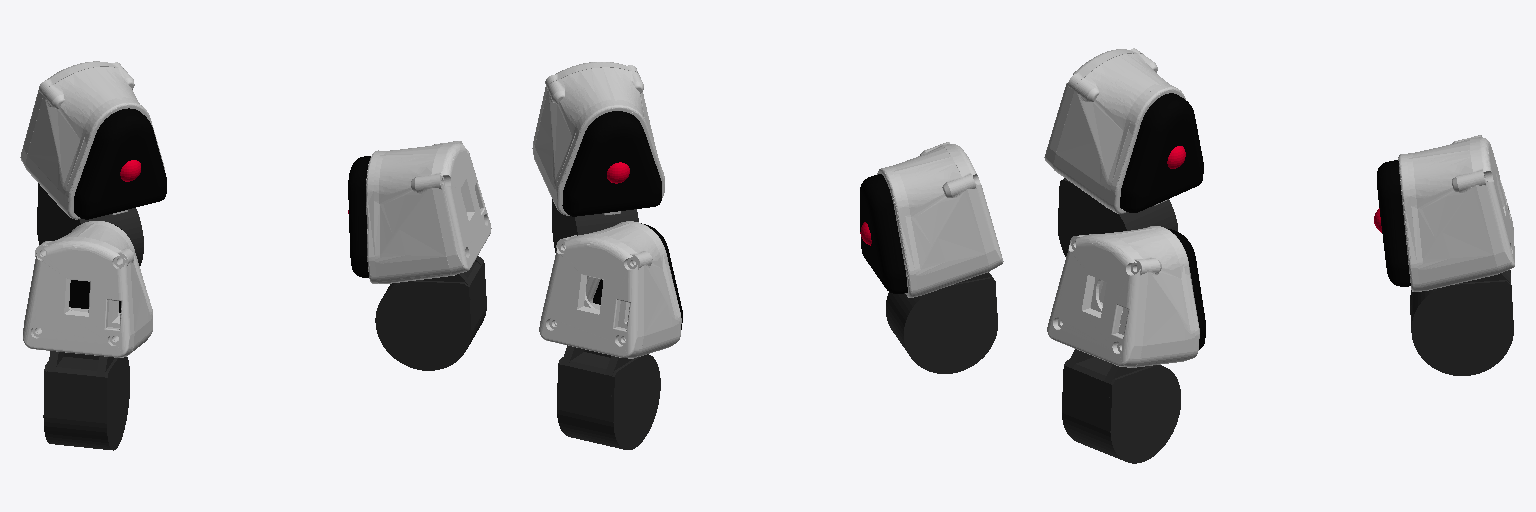
The robot description file, URDF, robot "smart_grasping_sandbox":
<?xml version="1.0" ?>
<!-- =================================================================================== -->
<!-- |    This document was autogenerated by xacro from /smart_grasping_sandbox/src/smart_grasping_sandbox/fh_desc/robots/right_H1_ur5.urdf | -->
<!-- |    EDITING THIS FILE BY HAND IS NOT RECOMMENDED                                 | -->
<!-- =================================================================================== -->
<robot name="smart_grasping_sandbox" xmlns:xacro="http://ros.org/wiki/xacro">

  <!-- Colors -->
  <material name="DarkGrey">
    <color rgba="0.2 0.2 0.2 1.0"/>
  </material>
  <material name="Grey">
    <color rgba="0.4 0.4 0.4 1.0"/>
  </material>
  <material name="Orange">
    <color rgba="1.0 0.423529411765 0.0392156862745 1.0"/>
  </material>
  <material name="Blue">
    <color rgba="0 0.1 1.0 1.0"/>
  </material>
  <material name="LightGrey">
    <color rgba="0.7 0.7 0.7 1.0"/>
  </material>
  <material name="Red">
    <color rgba="0.9 0 0.2 1.0"/>
  </material>
  <material name="Green">
    <color rgba="0 0.9 0.5 1.0"/>
  </material>
  <material name="Yellow">
    <color rgba="0.7 0.7 0 1.0"/>
  </material>
  <material name="LightBlue">
    <color rgba="0. 0.3 1.0 1.0"/>
  </material>
  <material name="Black">
    <color rgba="0.05 0.05 0.05 1.0"/>
  </material>
  <material name="White">
    <color rgba="1.0 1.0 1.0 1.0" />
  </material>
  <material name="TacTipWhite">
   <color rgba="0.8 0.8 0.8 1.0"/>
 </material>
 <material name="TransparentRed">
   <color rgba="0.9 0 0.2 0.5"/>
 </material>

<!-- ====================== Shadow Modular Grasper ====================== -->

<!-- connect hand to world -->
<link name="world"/>

<link name="SMG_base_link">
  <inertial>
    <origin rpy="0 0 0" xyz="-8.6116E-06 -0.0058125 0.028294"/>
    <mass value="0.07527"/>
    <inertia ixx="0.00014442" ixy="1.2033E-08" ixz="-5.9646E-10" iyy="0.00014979" iyz="-1.0288E-05" izz="5.2943E-05"/>
  </inertial>

  <visual>
    <origin rpy="0 0 0" xyz="0 0 0"/>
    <geometry>
      <mesh filename="hand/palm_link_simple.dae"/>
    </geometry>
    <material name="DarkGrey"/>
  </visual>

  <collision>
    <origin rpy="0 0 0" xyz="0 0 0"/>
    <geometry>
      <mesh filename="hand/palm_link_simple.dae"/>
    </geometry>
  </collision>
</link>

<joint name="SMG_base_joint" type="fixed">
  <origin rpy="0 0 0" xyz="0 0 0"/>
  <parent link="world"/>
  <child link="SMG_wrist_attach"/>
</joint>

<link name="SMG_wrist_attach">
  <inertial>
    <mass value="0.1879"/>
    <origin rpy="0 0 0" xyz="0.0 0.0 0.0"/>
    <inertia ixx="1.0" ixy="0.0" ixz="0.0" iyy="1.0" iyz="0.0" izz="1.0"/>
  </inertial>
</link>

<joint name="SMG_base_link_wrist_attach" type="fixed">
  <origin rpy="0 0 0" xyz="0 0 -0.0005"/>
  <child link="SMG_base_link"/>
  <parent link="SMG_wrist_attach"/>
</joint>


  <!-- ============= SMG Body =============== -->
  <link name="SMG_insert_F1">
    <inertial>
      <mass value="0.1879"/>
      <origin rpy="0 0 0" xyz="0.0 0.0 0.0"/>
      <inertia ixx="1.0" ixy="0.0" ixz="0.0" iyy="1.0" iyz="0.0" izz="1.0"/>
    </inertial>
  </link>

  <joint name="SMG_dummy_joint_1" type="fixed">
    <origin rpy="0 0 2.3562" xyz="-0.045 -0.025981 0"/>
    <axis xyz="0 -1 0"/>
    <parent link="SMG_base_link"/>
    <child link="SMG_insert_F1"/>
  </joint>

  <link name="SMG_insert_F2">
    <inertial>
      <mass value="0.1879"/>
      <origin rpy="0 0 0" xyz="0.0 0.0 0.0"/>
      <inertia ixx="1.0" ixy="0.0" ixz="0.0" iyy="1.0" iyz="0.0" izz="1.0"/>
    </inertial>
  </link>

  <joint name="SMG_dummy_joint_2" type="fixed">
    <origin rpy="0 0 0" xyz="0 0.029019 0"/>
    <axis xyz="0 -1 0"/>
    <parent link="SMG_base_link"/>
    <child link="SMG_insert_F2"/>
  </joint>

  <link name="SMG_insert_F3">
    <inertial>
      <mass value="0.1879"/>
      <origin rpy="0 0 0" xyz="0.0 0.0 0.0"/>
      <inertia ixx="1.0" ixy="0.0" ixz="0.0" iyy="1.0" iyz="0.0" izz="1.0"/>
    </inertial>
  </link>

  <joint name="SMG_dummy_joint_3" type="fixed">
    <origin rpy="0 0 -2.3562" xyz="0.045 -0.025981 0"/>
    <axis xyz="0 -1 0"/>
    <parent link="SMG_base_link"/>
    <child link="SMG_insert_F3"/>
  </joint>


  <!-- ============= Finger 1 =============== -->
  <link name="SMG_F1_palm_link">
    <inertial>
      <origin rpy="0 0 0" xyz="-0.00681802120880393 -0.00947020456878004 0.067587996682422"/>
      <mass value="0.0341482312344481"/>
      <inertia ixx="2.79747833772125E-05" ixy="-5.50900644725373E-08" ixz="-2.82072424927723E-07" iyy="2.67800858812928E-05" iyz="3.1953125069394E-06" izz="9.86122271726361E-06"/>
    </inertial>

    <visual>
      <origin rpy="0 0 0" xyz="0 0 0"/>
      <geometry>
        <mesh filename="hand/finger_palm_link.dae"/>
      </geometry>
      <material name="DarkGrey"/>
    </visual>

    <collision>
      <origin rpy="0 0 0" xyz="0 0 0"/>
      <geometry>
        <mesh filename="hand/finger_palm_link.dae"/>
      </geometry>
    </collision>
  </link>

  <link name="SMG_F1_base_link">
    <inertial>
      <origin rpy="0 0 0" xyz="-0.000142856770000038 0.0265691681336443 0.0538751581621436"/>
      <mass value="0.174652229503358"/>
      <inertia ixx="0.000298372741514267" ixy="-5.05751882577435E-07" ixz="1.94982779411417E-07" iyy="0.000299629589232877" iyz="2.79565205733806E-05" izz="0.000134889645145365"/>
    </inertial>

    <visual>
      <origin rpy="0 0 0" xyz="0 0 0"/>
      <geometry>
        <mesh filename="hand/finger_base_link_simple.dae"/>
      </geometry>
      <material name="DarkGrey"/>
    </visual>

    <collision>
      <origin rpy="0 0 0" xyz="0 0 0"/>
      <geometry>
        <mesh filename="hand/finger_base_link_simple.dae"/>
      </geometry>
    </collision>
  </link>

  <link name="SMG_F1_link_1">
    <inertial>
      <origin rpy="0 0 0" xyz="-0.000141876508729455 -0.00135409566494088 0.0277606215980989"/>
      <mass value="0.0827759744227546"/>
      <inertia ixx="4.61070151157777E-05" ixy="7.47741111557837E-08" ixz="-2.25165057702697E-07" iyy="5.27678327317508E-05" iyz="-3.64603343546298E-07" izz="2.89599551320955E-05"/>
    </inertial>

    <visual>
      <origin rpy="0 0 0" xyz="0 0 0"/>
      <geometry>
        <mesh filename="hand/finger_prox_link_simple.dae"/>
      </geometry>
      <material name="LightGrey"/>
    </visual>

    <collision>
      <origin rpy="0 0 0" xyz="0 0 0"/>
      <geometry>
        <mesh filename="hand/finger_prox_link_simple.dae"/>
      </geometry>
    </collision>
  </link>

  <link name="SMG_F1_link_2">
    <inertial>
      <origin rpy="0 0 0" xyz="0.000506812071918918 -0.00091292934992606 0.0156620851768385"/>
      <mass value="0.0270049614151599"/>
      <inertia ixx="1.06942730265546E-05" ixy="-7.1810089794211E-09" ixz="-3.49957211410822E-07" iyy="1.05772889540593E-05" iyz="-8.38595987731518E-07" izz="3.27173446995846E-06"/>
    </inertial>

    <visual>
      <origin rpy="0 0 0" xyz="0 0 0"/>
      <geometry>
        <mesh filename="tip/dist_hand_mount.obj"/>
      </geometry>
      <material name="DarkGrey"/>
    </visual>

    <collision>
      <origin rpy="0 0 0" xyz="0 0 0"/>
      <geometry>
        <mesh filename="tip/dist_hand_mount.obj"/>
      </geometry>
    </collision>
  </link>

  <joint name="SMG_F1_palm" type="fixed">
    <origin rpy="0 0 0" xyz="0 0 0"/>
    <parent link="SMG_insert_F1"/>
    <child link="SMG_F1_palm_link"/>
  </joint>

  <joint name="SMG_F1J1" type="revolute">
    <origin rpy="-8.8818E-16 -1.0061E-16 0.022402" xyz="0 0 0.00016528"/>
    <axis xyz="0 0 1"/>
    <parent link="SMG_F1_palm_link"/>
    <child link="SMG_F1_base_link"/>
    <limit effort="50" lower="-0.785398163397" upper="0.785398163397" velocity="1.0"/>
    <!-- <dynamics damping="0.5" friction="0.0"/> -->
  </joint>

  <joint name="SMG_F1J2" type="revolute">
    <origin rpy="0.070695 6.9389E-16 2.0947E-16" xyz="0 0.035 0.11683"/>
    <axis xyz="1 0 0"/>
    <parent link="SMG_F1_base_link"/>
    <child link="SMG_F1_link_1"/>
    <limit effort="50" lower="-1.3962634016" upper="1.0471975512" velocity="1.0"/>
    <!-- <dynamics damping="0.5" friction="0.0"/> -->
  </joint>

  <joint name="SMG_F1J3" type="revolute">
    <origin rpy="-0.0068649 1.7347E-18 1.6176E-16" xyz="0 0 0.06"/>
    <axis xyz="1 0 0"/>
    <parent link="SMG_F1_link_1"/>
    <child link="SMG_F1_link_2"/>
    <limit effort="50" lower="-1.0471975512" upper="1.57079632679" velocity="1.0"/>
    <!-- <dynamics damping="0.5" friction="0.0"/> -->
  </joint>

  <link name="SMG_F1_tactip_body">
    <inertial>
      <origin rpy="0 0 0" xyz="-0.000925580990320645 -0.00495543398528436 0.0355865585792753"/>
      <mass value="0.01"/>
      <inertia ixx="1E-06" ixy="0" ixz="0" iyy="1E-06" iyz="0" izz="1E-06"/>
    </inertial>

    <visual>
      <origin rpy="0 0 0" xyz="0 0 0"/>
      <geometry>
        <mesh filename="tip/smg_tactip_body.obj"/>
      </geometry>
      <material name="TacTipWhite"/>
    </visual>

    <collision>
      <origin rpy="0 0 0" xyz="0 0 0"/>
      <geometry>
        <mesh filename="tip/smg_tactip_body.obj"/>
      </geometry>
    </collision>
  </link>

  <joint name="SMG_F1_tactip_body_joint" type="fixed">
    <parent link="SMG_F1_link_2"/>
    <child link="SMG_F1_tactip_body"/>
  </joint>

  <link name="SMG_F1_tactip_tip">
    <inertial>
      <origin rpy="0 0 0" xyz="-0.000925580990320645 -0.00495543398528436 0.0355865585792753"/>
      <mass value="0.01"/>
      <inertia ixx="1E-06" ixy="0" ixz="0" iyy="1E-06" iyz="0" izz="1E-06"/>
    </inertial>

    <visual>
      <origin rpy="0 0 0" xyz="0 0 0"/>
      <geometry>
        <mesh filename="tip/smg_tactip_skin.obj"/>
      </geometry>
      <material name="Black"/>
    </visual>

    <collision>
      <origin rpy="0 0 0" xyz="0 0 0"/>
      <geometry>
        <mesh filename="tip/smg_tactip_core.obj"/>
      </geometry>
    </collision>
  </link>

  <joint name="SMG_F1_tactip_tip_joint" type="fixed">
    <parent link="SMG_F1_tactip_body"/>
    <child link="SMG_F1_tactip_tip"/>
  </joint>

  <!-- TCP -->
  <link name="F1_tcp_link">
    <visual>
      <origin rpy="0 0 0" xyz="0 0 0"/>
      <geometry>
        <sphere radius="0.005"/>
      </geometry>
       <material name="TransparentRed"/>
    </visual>
    <inertial>
      <mass value="0.0"/>
      <origin rpy="0.0 0.0 3.14" xyz="0.0 0.0 0.0"/>
      <inertia ixx="1.0" ixy="0.0" ixz="0.0" iyy="1.0" iyz="0.0" izz="1.0"/>
    </inertial>
  </link>

  <joint name="F1_tcp_joint" type="fixed">
    <parent link="SMG_F1_tactip_body"/>
    <child link="F1_tcp_link"/>
    <origin rpy="0 0 0" xyz="0.0 -0.0175 0.035"/>
  </joint>


  <!-- ============= Finger 2 =============== -->
  <link name="SMG_F2_palm_link">
    <inertial>
      <origin rpy="0 0 0" xyz="-0.00681802120880393 -0.00947020456878004 0.067587996682422"/>
      <mass value="0.0341482312344481"/>
      <inertia ixx="2.79747833772125E-05" ixy="-5.50900644725373E-08" ixz="-2.82072424927723E-07" iyy="2.67800858812928E-05" iyz="3.1953125069394E-06" izz="9.86122271726361E-06"/>
    </inertial>

    <visual>
      <origin rpy="0 0 0" xyz="0 0 0"/>
      <geometry>
        <mesh filename="hand/finger_palm_link.dae"/>
      </geometry>
      <material name="DarkGrey"/>
    </visual>

    <collision>
      <origin rpy="0 0 0" xyz="0 0 0"/>
      <geometry>
        <mesh filename="hand/finger_palm_link.dae"/>
      </geometry>
    </collision>
  </link>

  <link name="SMG_F2_base_link">
    <inertial>
      <origin rpy="0 0 0" xyz="-0.000142856770000038 0.0265691681336443 0.0538751581621436"/>
      <mass value="0.174652229503358"/>
      <inertia ixx="0.000298372741514267" ixy="-5.05751882577435E-07" ixz="1.94982779411417E-07" iyy="0.000299629589232877" iyz="2.79565205733806E-05" izz="0.000134889645145365"/>
    </inertial>

    <visual>
      <origin rpy="0 0 0" xyz="0 0 0"/>
      <geometry>
        <mesh filename="hand/finger_base_link_simple.dae"/>
      </geometry>
      <material name="DarkGrey"/>
    </visual>

    <collision>
      <origin rpy="0 0 0" xyz="0 0 0"/>
      <geometry>
        <mesh filename="hand/finger_base_link_simple.dae"/>
      </geometry>
    </collision>
  </link>


  <link name="SMG_F2_link_1">
    <inertial>
      <origin rpy="0 0 0" xyz="-0.000141876508729455 -0.00135409566494088 0.0277606215980989"/>
      <mass value="0.0827759744227546"/>
      <inertia ixx="4.61070151157777E-05" ixy="7.47741111557837E-08" ixz="-2.25165057702697E-07" iyy="5.27678327317508E-05" iyz="-3.64603343546298E-07" izz="2.89599551320955E-05"/>
    </inertial>

    <visual>
      <origin rpy="0 0 0" xyz="0 0 0"/>
      <geometry>
        <mesh filename="hand/finger_prox_link_simple.dae"/>
      </geometry>
      <material name="LightGrey"/>
    </visual>

    <collision>
      <origin rpy="0 0 0" xyz="0 0 0"/>
      <geometry>
        <mesh filename="hand/finger_prox_link_simple.dae"/>
      </geometry>
    </collision>
  </link>


  <link name="SMG_F2_link_2">
    <inertial>
      <origin rpy="0 0 0" xyz="0.000506812071918918 -0.00091292934992606 0.0156620851768385"/>
      <mass value="0.0270049614151599"/>
      <inertia ixx="1.06942730265546E-05" ixy="-7.1810089794211E-09" ixz="-3.49957211410822E-07" iyy="1.05772889540593E-05" iyz="-8.38595987731518E-07" izz="3.27173446995846E-06"/>
    </inertial>

    <visual>
      <origin rpy="0 0 0" xyz="0 0 0"/>
      <geometry>
        <mesh filename="tip/dist_hand_mount.obj"/>
      </geometry>
      <material name="DarkGrey"/>
    </visual>

    <collision>
      <origin rpy="0 0 0" xyz="0 0 0"/>
      <geometry>
        <mesh filename="tip/dist_hand_mount.obj"/>
      </geometry>
    </collision>
  </link>

  <joint name="SMG_F2_palm" type="fixed">
    <origin rpy="0 0 0" xyz="0 0 0"/>
    <parent link="SMG_insert_F2"/>
    <child link="SMG_F2_palm_link"/>
  </joint>

  <joint name="SMG_F2J1" type="revolute">
    <origin rpy="-8.8818E-16 -1.0061E-16 0.022402" xyz="0 0 0.00016528"/>
    <axis xyz="0 0 1"/>
    <parent link="SMG_F2_palm_link"/>
    <child link="SMG_F2_base_link"/>
    <limit effort="30" lower="-0.785398163397" upper="0.785398163397" velocity="1.0"/>
    <!-- <dynamics damping="0.5" friction="0.0"/> -->
  </joint>

  <joint name="SMG_F2J2" type="revolute">
    <origin rpy="0.070695 6.9389E-16 2.0947E-16" xyz="0 0.035 0.11683"/>
    <axis xyz="1 0 0"/>
    <parent link="SMG_F2_base_link"/>
    <child link="SMG_F2_link_1"/>
    <limit effort="30" lower="-1.3962634016" upper="1.0471975512" velocity="1.0"/>
    <!-- <dynamics damping="0.5" friction="0.0"/> -->
  </joint>

  <joint name="SMG_F2J3" type="revolute">
    <origin rpy="-0.0068649 1.7347E-18 1.6176E-16" xyz="0 0 0.06"/>
    <axis xyz="1 0 0"/>
    <parent link="SMG_F2_link_1"/>
    <child link="SMG_F2_link_2"/>
    <limit effort="30" lower="-1.0471975512" upper="1.57079632679" velocity="1.0"/>
    <!-- <dynamics damping="0.5" friction="0.0"/> -->
  </joint>

  <link name="SMG_F2_tactip_body">
    <inertial>
      <origin rpy="0 0 0" xyz="-0.000925580990320645 -0.00495543398528436 0.0355865585792753"/>
      <mass value="0.01"/>
      <inertia ixx="1E-06" ixy="0" ixz="0" iyy="1E-06" iyz="0" izz="1E-06"/>
    </inertial>

    <visual>
      <origin rpy="0 0 0" xyz="0 0 0"/>
      <geometry>
        <mesh filename="tip/smg_tactip_body.obj"/>
      </geometry>
      <material name="TacTipWhite"/>
    </visual>

    <collision>
      <origin rpy="0 0 0" xyz="0 0 0"/>
      <geometry>
        <mesh filename="tip/smg_tactip_body.obj"/>
      </geometry>
    </collision>
  </link>

  <joint name="SMG_F2_tactip_body_joint" type="fixed">
    <parent link="SMG_F2_link_2"/>
    <child link="SMG_F2_tactip_body"/>
  </joint>

  <link name="SMG_F2_tactip_tip">
    <inertial>
      <origin rpy="0 0 0" xyz="-0.000925580990320645 -0.00495543398528436 0.0355865585792753"/>
      <mass value="0.01"/>
      <inertia ixx="1E-06" ixy="0" ixz="0" iyy="1E-06" iyz="0" izz="1E-06"/>
    </inertial>

    <visual>
      <origin rpy="0 0 0" xyz="0 0 0"/>
      <geometry>
        <mesh filename="tip/smg_tactip_skin.obj"/>
      </geometry>
      <material name="Black"/>
    </visual>

    <collision>
      <origin rpy="0 0 0" xyz="0 0 0"/>
      <geometry>
        <mesh filename="tip/smg_tactip_core.obj"/>
      </geometry>
    </collision>
  </link>

  <joint name="SMG_F2_tactip_tip_joint" type="fixed">
    <parent link="SMG_F2_tactip_body"/>
    <child link="SMG_F2_tactip_tip"/>
  </joint>

  <!-- TCP -->
  <link name="F2_tcp_link">
    <visual>
      <origin rpy="0 0 0" xyz="0 0 0"/>
      <geometry>
        <sphere radius="0.005"/>
      </geometry>
       <material name="TransparentRed"/>
    </visual>
    <inertial>
      <mass value="0.0"/>
      <origin rpy="0.0 0.0 3.14" xyz="0.0 0.0 0.0"/>
      <inertia ixx="1.0" ixy="0.0" ixz="0.0" iyy="1.0" iyz="0.0" izz="1.0"/>
    </inertial>
  </link>

  <joint name="F2_tcp_joint" type="fixed">
    <parent link="SMG_F2_tactip_body"/>
    <child link="F2_tcp_link"/>
    <origin rpy="0 0 0" xyz="0.0 -0.0175 0.035"/>
  </joint>

  <!-- ============= Finger 3 =============== -->
  <link name="SMG_F3_palm_link">
    <inertial>
      <origin rpy="0 0 0" xyz="-0.00681802120880393 -0.00947020456878004 0.067587996682422"/>
      <mass value="0.0341482312344481"/>
      <inertia ixx="2.79747833772125E-05" ixy="-5.50900644725373E-08" ixz="-2.82072424927723E-07" iyy="2.67800858812928E-05" iyz="3.1953125069394E-06" izz="9.86122271726361E-06"/>
    </inertial>

    <visual>
      <origin rpy="0 0 0" xyz="0 0 0"/>
      <geometry>
        <mesh filename="hand/finger_palm_link.dae"/>
      </geometry>
      <material name="DarkGrey"/>
    </visual>

    <collision>
      <origin rpy="0 0 0" xyz="0 0 0"/>
      <geometry>
        <mesh filename="hand/finger_palm_link.dae"/>
      </geometry>
    </collision>
  </link>


  <link name="SMG_F3_base_link">
    <inertial>
      <origin rpy="0 0 0" xyz="-0.000142856770000038 0.0265691681336443 0.0538751581621436"/>
      <mass value="0.174652229503358"/>
      <inertia ixx="0.000298372741514267" ixy="-5.05751882577435E-07" ixz="1.94982779411417E-07" iyy="0.000299629589232877" iyz="2.79565205733806E-05" izz="0.000134889645145365"/>
    </inertial>

    <visual>
      <origin rpy="0 0 0" xyz="0 0 0"/>
      <geometry>
        <mesh filename="hand/finger_base_link_simple.dae"/>
      </geometry>
      <material name="DarkGrey"/>
    </visual>

    <collision>
      <origin rpy="0 0 0" xyz="0 0 0"/>
      <geometry>
        <mesh filename="hand/finger_base_link_simple.dae"/>
      </geometry>
    </collision>
  </link>


  <link name="SMG_F3_link_1">
    <inertial>
      <origin rpy="0 0 0" xyz="-0.000141876508729455 -0.00135409566494088 0.0277606215980989"/>
      <mass value="0.0827759744227546"/>
      <inertia ixx="4.61070151157777E-05" ixy="7.47741111557837E-08" ixz="-2.25165057702697E-07" iyy="5.27678327317508E-05" iyz="-3.64603343546298E-07" izz="2.89599551320955E-05"/>
    </inertial>

    <visual>
      <origin rpy="0 0 0" xyz="0 0 0"/>
      <geometry>
        <mesh filename="hand/finger_prox_link_simple.dae"/>
      </geometry>
      <material name="LightGrey"/>
    </visual>

    <collision>
      <origin rpy="0 0 0" xyz="0 0 0"/>
      <geometry>
        <mesh filename="hand/finger_prox_link_simple.dae"/>
      </geometry>
    </collision>
  </link>



  <link name="SMG_F3_link_2">
    <inertial>
      <origin rpy="0 0 0" xyz="0.000506812071918918 -0.00091292934992606 0.0156620851768385"/>
      <mass value="0.0270049614151599"/>
      <inertia ixx="1.06942730265546E-05" ixy="-7.1810089794211E-09" ixz="-3.49957211410822E-07" iyy="1.05772889540593E-05" iyz="-8.38595987731518E-07" izz="3.27173446995846E-06"/>
    </inertial>

    <visual>
      <origin rpy="0 0 0" xyz="0 0 0"/>
      <geometry>
        <mesh filename="tip/dist_hand_mount.obj"/>
      </geometry>
      <material name="DarkGrey"/>
    </visual>

    <collision>
      <origin rpy="0 0 0" xyz="0 0 0"/>
      <geometry>
        <mesh filename="tip/dist_hand_mount.obj"/>
      </geometry>
    </collision>
  </link>


  <joint name="SMG_F3Palm" type="fixed">
    <origin rpy="0 0 0" xyz="0 0 0"/>
    <parent link="SMG_insert_F3"/>
    <child link="SMG_F3_palm_link"/>
  </joint>

  <joint name="SMG_F3J1" type="revolute">
    <origin rpy="-8.8818E-16 -1.0061E-16 0.022402" xyz="0 0 0.00016528"/>
    <axis xyz="0 0 1"/>
    <parent link="SMG_F3_palm_link"/>
    <child link="SMG_F3_base_link"/>
    <limit effort="30" lower="-0.785398163397" upper="0.785398163397" velocity="1.0"/>
    <!-- <dynamics damping="0.5" friction="0.0"/> -->
  </joint>

  <joint name="SMG_F3J2" type="revolute">
    <origin rpy="0.070695 6.9389E-16 2.0947E-16" xyz="0 0.035 0.11683"/>
    <axis xyz="1 0 0"/>
    <parent link="SMG_F3_base_link"/>
    <child link="SMG_F3_link_1"/>
    <limit effort="30" lower="-1.3962634016" upper="1.0471975512" velocity="1.0"/>
    <!-- <dynamics damping="0.5" friction="0.0"/> -->
  </joint>

  <joint name="SMG_F3J3" type="revolute">
    <origin rpy="-0.0068649 1.7347E-18 1.6176E-16" xyz="0 0 0.06"/>
    <axis xyz="1 0 0"/>
    <parent link="SMG_F3_link_1"/>
    <child link="SMG_F3_link_2"/>
    <limit effort="30" lower="-1.0471975512" upper="1.57079632679" velocity="1.0"/>
    <!-- <dynamics damping="0.5" friction="0.0"/> -->
  </joint>

  <link name="SMG_F3_tactip_body">
    <inertial>
      <origin rpy="0 0 0" xyz="-0.000925580990320645 -0.00495543398528436 0.0355865585792753"/>
      <mass value="0.01"/>
      <inertia ixx="1E-06" ixy="0" ixz="0" iyy="1E-06" iyz="0" izz="1E-06"/>
    </inertial>

    <visual>
      <origin rpy="0 0 0" xyz="0 0 0"/>
      <geometry>
        <mesh filename="tip/smg_tactip_body.obj"/>
      </geometry>
      <material name="TacTipWhite"/>
    </visual>

    <collision>
      <origin rpy="0 0 0" xyz="0 0 0"/>
      <geometry>
        <mesh filename="tip/smg_tactip_body.obj"/>
      </geometry>
    </collision>
  </link>

  <joint name="SMG_F3_tactip_body_joint" type="fixed">
    <parent link="SMG_F3_link_2"/>
    <child link="SMG_F3_tactip_body"/>
  </joint>

  <link name="SMG_F3_tactip_tip">
    <inertial>
      <origin rpy="0 0 0" xyz="-0.000925580990320645 -0.00495543398528436 0.0355865585792753"/>
      <mass value="0.01"/>
      <inertia ixx="1E-06" ixy="0" ixz="0" iyy="1E-06" iyz="0" izz="1E-06"/>
    </inertial>

    <visual>
      <origin rpy="0 0 0" xyz="0 0 0"/>
      <geometry>
        <mesh filename="tip/smg_tactip_skin.obj"/>
      </geometry>
      <material name="Black"/>
    </visual>

    <collision>
      <origin rpy="0 0 0" xyz="0 0 0"/>
      <geometry>
        <mesh filename="tip/smg_tactip_core.obj"/>
      </geometry>
    </collision>
  </link>

  <joint name="SMG_F3_tactip_tip_joint" type="fixed">
    <parent link="SMG_F3_tactip_body"/>
    <child link="SMG_F3_tactip_tip"/>
  </joint>

  <!-- TCP -->
  <link name="F3_tcp_link">
    <visual>
      <origin rpy="0 0 0" xyz="0 0 0"/>
      <geometry>
        <sphere radius="0.005"/>
      </geometry>
       <material name="TransparentRed"/>
    </visual>
    <inertial>
      <mass value="0.0"/>
      <origin rpy="0.0 0.0 3.14" xyz="0.0 0.0 0.0"/>
      <inertia ixx="1.0" ixy="0.0" ixz="0.0" iyy="1.0" iyz="0.0" izz="1.0"/>
    </inertial>
  </link>

  <joint name="F3_tcp_joint" type="fixed">
    <parent link="SMG_F3_tactip_body"/>
    <child link="F3_tcp_link"/>
    <origin rpy="0 0 0" xyz="0.0 -0.0175 0.035"/>
  </joint>

</robot>

--- Facts derived from the render (not from the file) ---
3 views of the same robot in one strip: view 1: azimuth 30°, elevation 25°; view 2: azimuth 150°, elevation 25°; view 3: azimuth 270°, elevation 25° (orthographic).
Model smart_grasping_sandbox with 27 links and 26 joints (9 revolute, 17 fixed), rooted at world, posed every joint at zero.
Links seen in each view (by area): view 1: SMG_F3_tactip_body, SMG_F1_tactip_body, SMG_F2_tactip_body, SMG_F3_link_2, SMG_F1_link_2, SMG_F2_tactip_tip, SMG_F2_link_2, SMG_F3_tactip_tip, SMG_F1_tactip_tip; view 2: SMG_F2_tactip_body, SMG_F1_tactip_body, SMG_F2_link_2, SMG_F3_tactip_body, SMG_F1_link_2, SMG_F3_tactip_tip, SMG_F1_tactip_tip, SMG_F3_link_2; view 3: SMG_F3_tactip_body, SMG_F2_tactip_body, SMG_F1_tactip_body, SMG_F3_link_2, SMG_F2_link_2, SMG_F1_tactip_tip, SMG_F1_link_2, SMG_F2_tactip_tip, SMG_F3_tactip_tip.
Boxes of the visible links, box(x1,y1,x2,y2) form: SMG_F3_tactip_body: box(366, 141, 491, 283); SMG_F1_tactip_body: box(23, 221, 152, 357); SMG_F2_tactip_body: box(20, 61, 164, 219); SMG_F3_link_2: box(375, 256, 486, 370); SMG_F1_link_2: box(43, 351, 129, 450); SMG_F2_tactip_tip: box(74, 108, 166, 219); SMG_F2_link_2: box(37, 183, 143, 265); SMG_F3_tactip_tip: box(348, 156, 370, 277); SMG_F1_tactip_tip: box(69, 225, 121, 312); SMG_F2_tactip_body: box(539, 221, 681, 358); SMG_F1_tactip_body: box(877, 142, 1003, 297); SMG_F2_link_2: box(557, 345, 660, 449); SMG_F3_tactip_body: box(532, 62, 664, 215); SMG_F1_link_2: box(886, 272, 997, 373); SMG_F3_tactip_tip: box(562, 111, 661, 216); SMG_F1_tactip_tip: box(860, 174, 907, 293); SMG_F3_link_2: box(552, 199, 638, 252); SMG_F3_tactip_body: box(1047, 226, 1199, 367); SMG_F2_tactip_body: box(1398, 135, 1514, 291); SMG_F1_tactip_body: box(1044, 48, 1185, 213); SMG_F3_link_2: box(1062, 349, 1180, 463); SMG_F2_link_2: box(1410, 270, 1513, 375); SMG_F1_tactip_tip: box(1120, 93, 1203, 212); SMG_F1_link_2: box(1058, 178, 1177, 256); SMG_F2_tactip_tip: box(1377, 160, 1410, 286); SMG_F3_tactip_tip: box(1168, 229, 1205, 349).
Size in the robot's own frame: 0.1913 by 0.1604 by 0.0815 metres.
Meshes: 7 distinct files referenced, 9 mesh visuals loaded (3 OBJ); not drawn: 10 (reference not matched to a file when rendering).